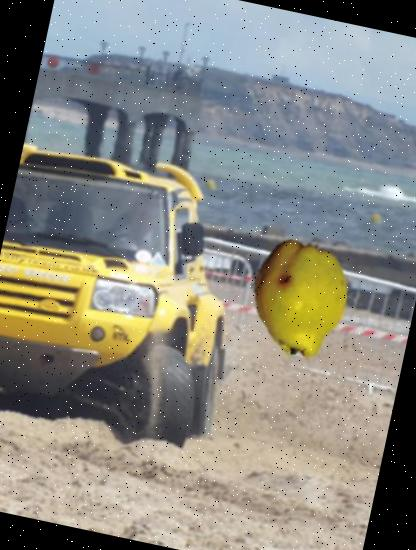Quince: (228, 227, 370, 368)
